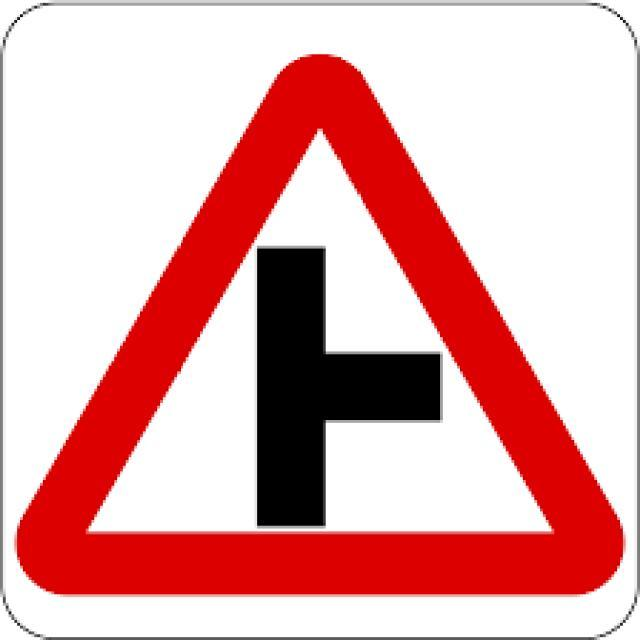side road right: (27, 53, 611, 597)
